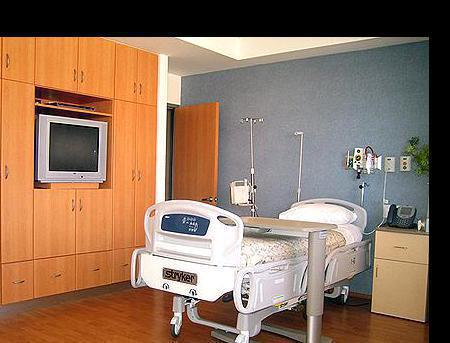Puerta: (174, 108, 216, 202)
